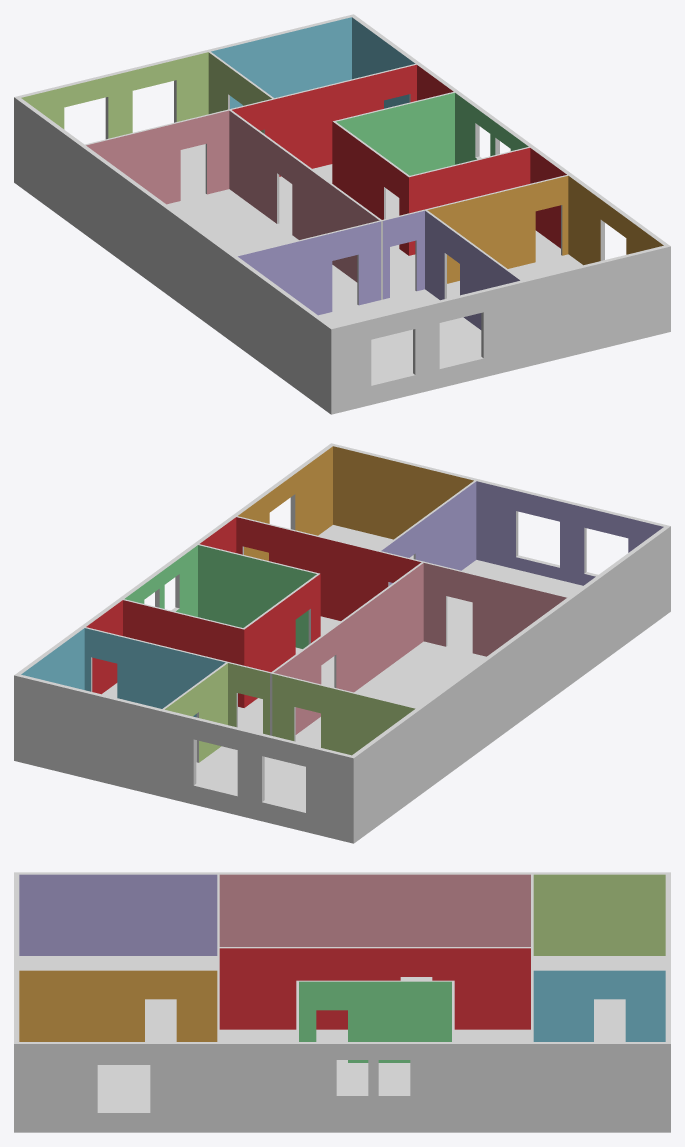
The model's file is Rooms.fbx.
The picture shows the model from 3 angles, top to bottom: view 1: azimuth 30°, elevation 25°; view 2: azimuth 150°, elevation 25°; view 3: azimuth 270°, elevation 25°; orthographic projection. The views are drawn at different scales.
Visible parts, largest first — view 1: Rooms, Floor, Corridor floor; view 2: Rooms, Floor, Corridor floor; view 3: Rooms, Floor, Corridor floor, Office floor.
Boxes of the visible parts, x1,y1,x2,y2 form: Rooms: (14,14,670,414); Floor: (167,144,582,383); Corridor floor: (277,164,561,297); Rooms: (14,443,670,843); Floor: (196,525,582,810); Corridor floor: (102,616,340,733); Rooms: (14,872,670,1132); Floor: (19,956,665,1110); Corridor floor: (219,1029,530,1061); Office floor: (336,1062,410,1093).
Bounding box in the file's own units: 1540 × 370 × 2490.
